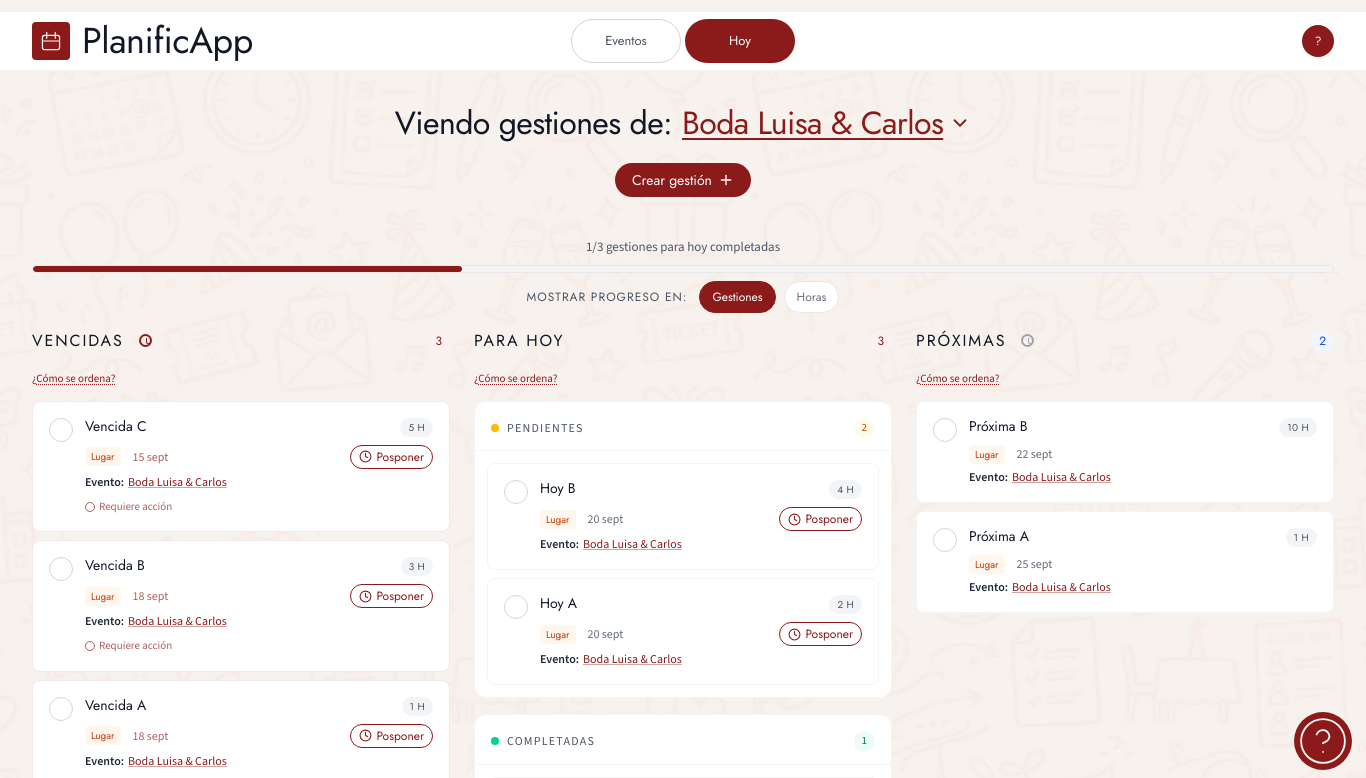
Test case: HomePage › pospuestas › Posponer envía el PATCH {status: 'postponed'}
The width and height of the screenshot is (1366, 778).
Click the 4th button "Posponer" at [821, 634], box x1=779 y1=622 x2=862 y2=646
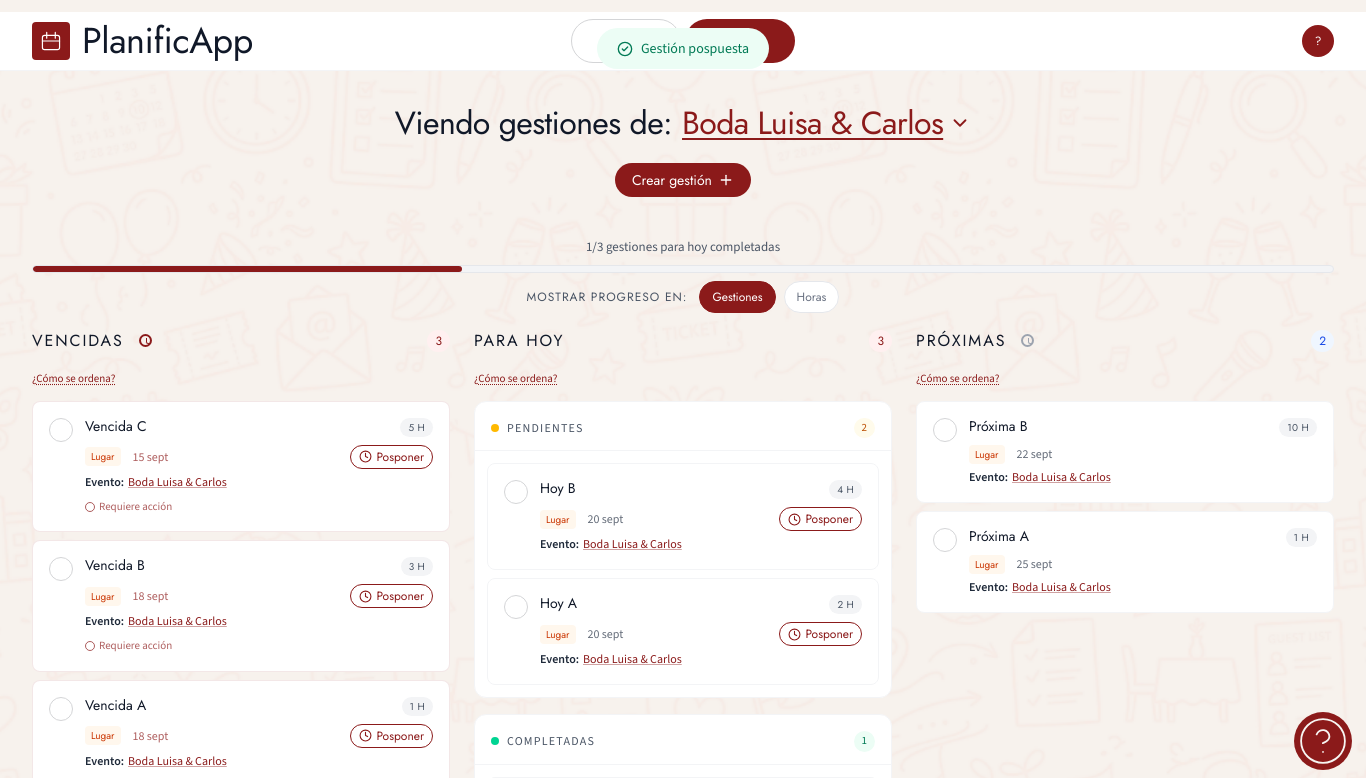
expect the text "Gestión pospuesta" is shown: met, box x1=641 y1=38 x2=749 y2=59
